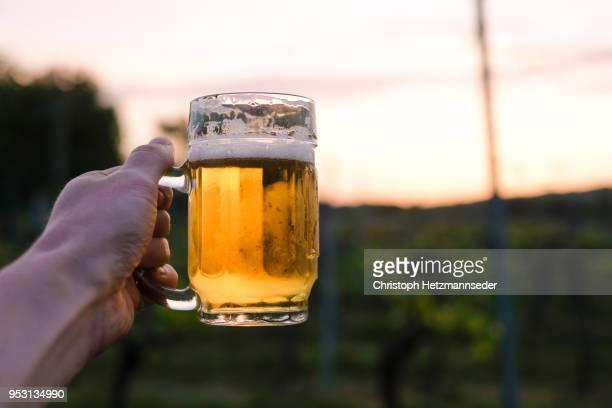glass-mug: (138, 87, 323, 330)
